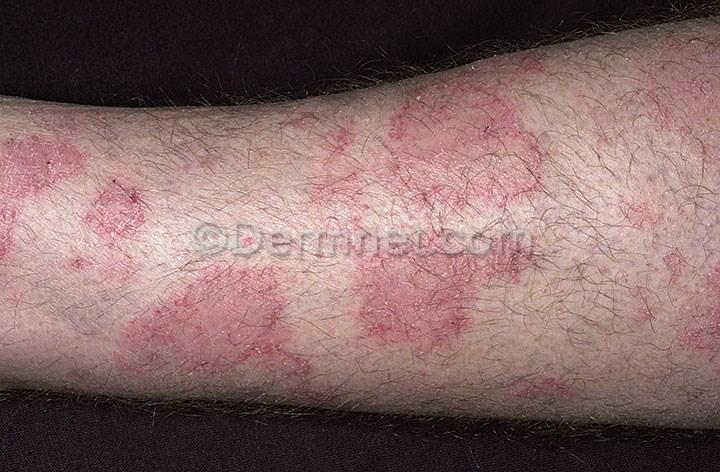Eczema: (108, 266, 337, 403), (375, 89, 556, 213), (362, 253, 519, 377), (624, 33, 720, 167), (620, 247, 720, 375), (267, 105, 371, 217), (0, 124, 96, 245), (76, 174, 168, 248), (503, 372, 594, 411)
